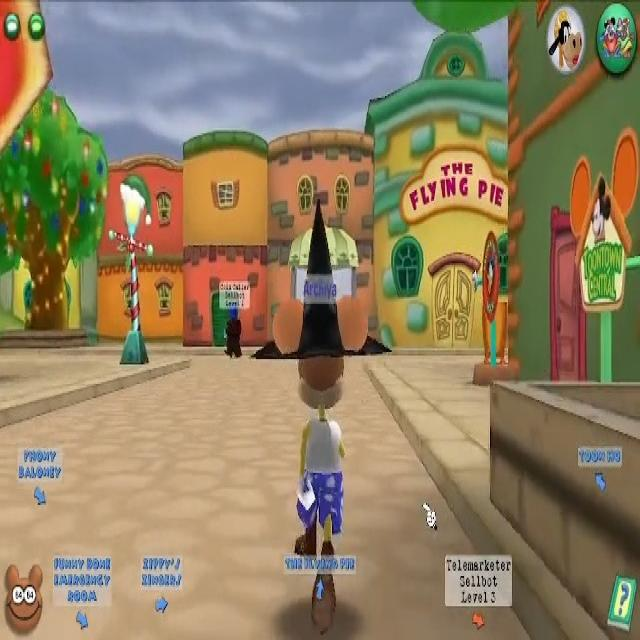coldcaller: (217, 282, 250, 356)
